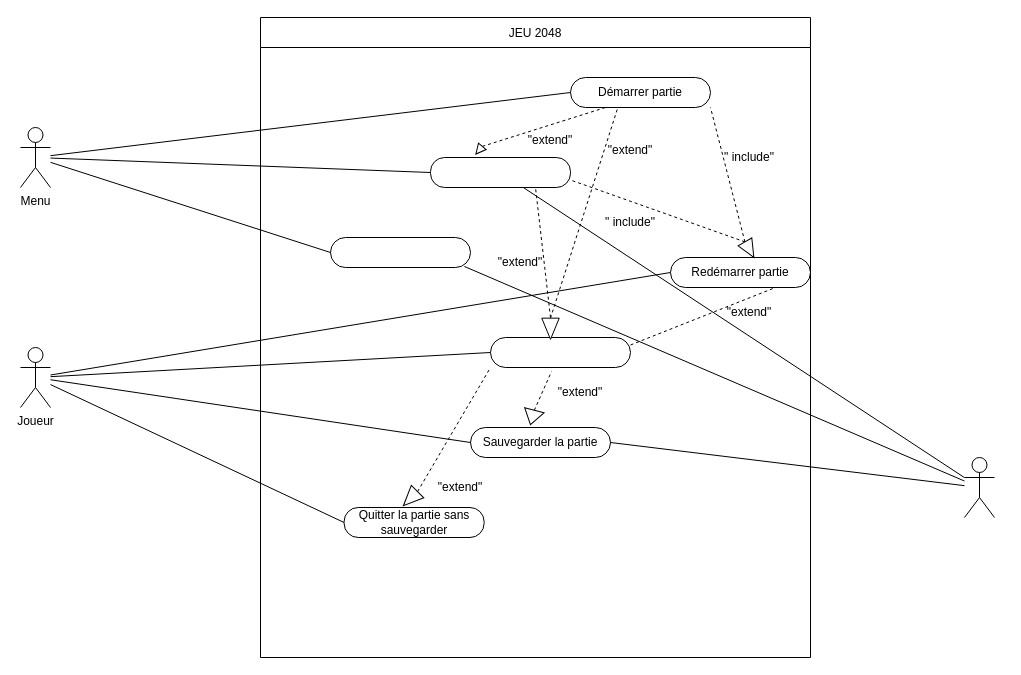
The diagram is 1021 pixels wide and 675 high, and some of its shapes have lost their labels. Each missing label, with the centre of its shape:
"Afficher le meilleur score" goes at [400,252].
"Continuer partie" goes at [500,172].
"Données" goes at [979,487].
"Jouer" goes at [560,352].
